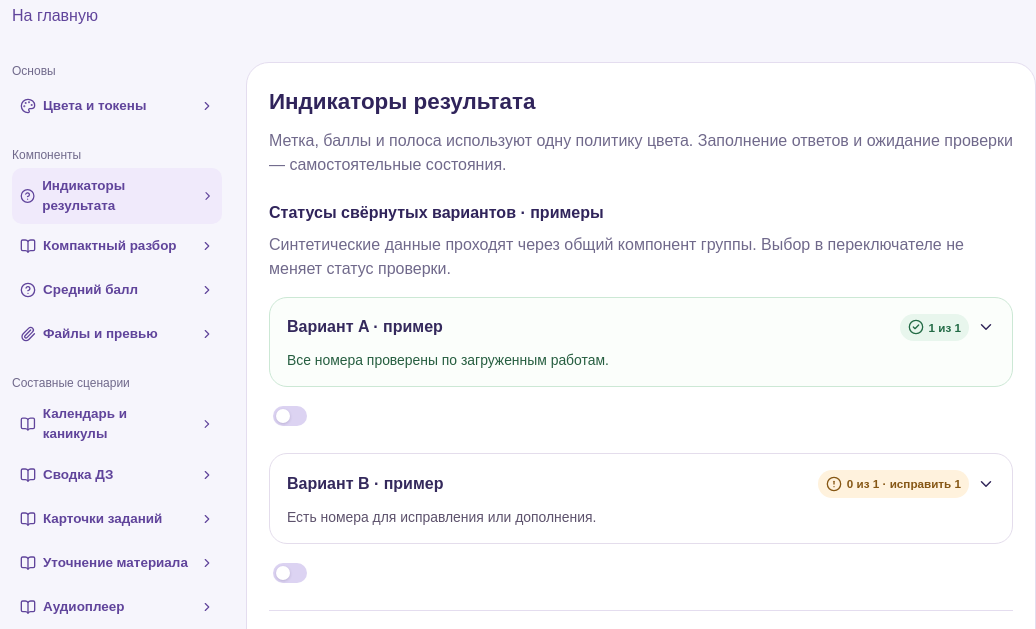
preserves grouped navigation and the shared grade average simulator
Click the button "Средний балл" at point(117, 290), box top-left (12, 268), bottom-right (222, 312)
(page scrolled)
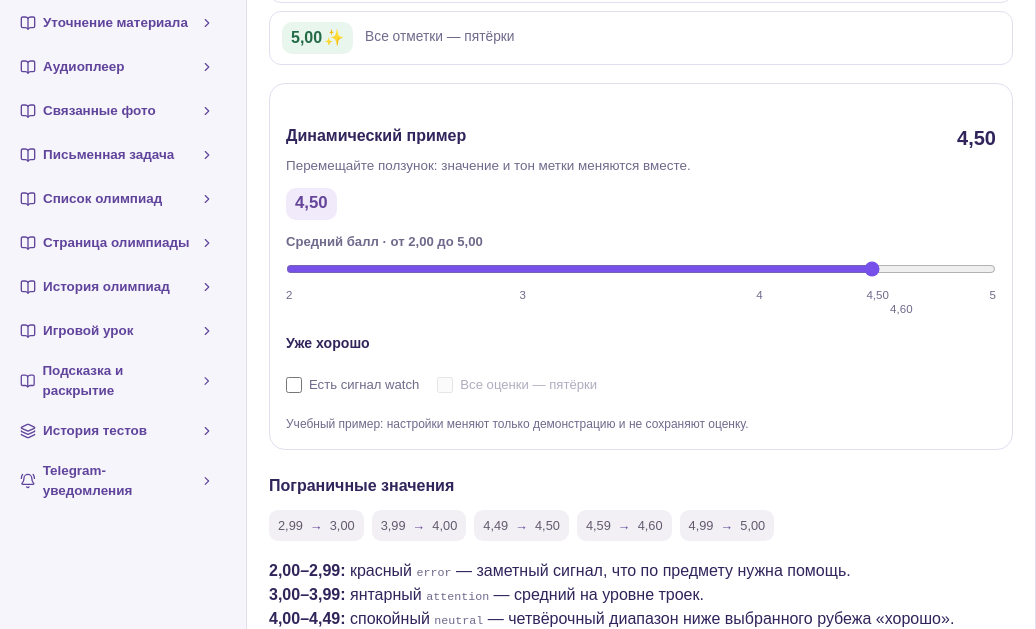
Check: the text "4,50" in the row of "Динамический пример" is shown, box top-left (957, 127), bottom-right (996, 149)
Check: the element with class "edu-grade-slider" is shown, box top-left (269, 83), bottom-right (1013, 450)
